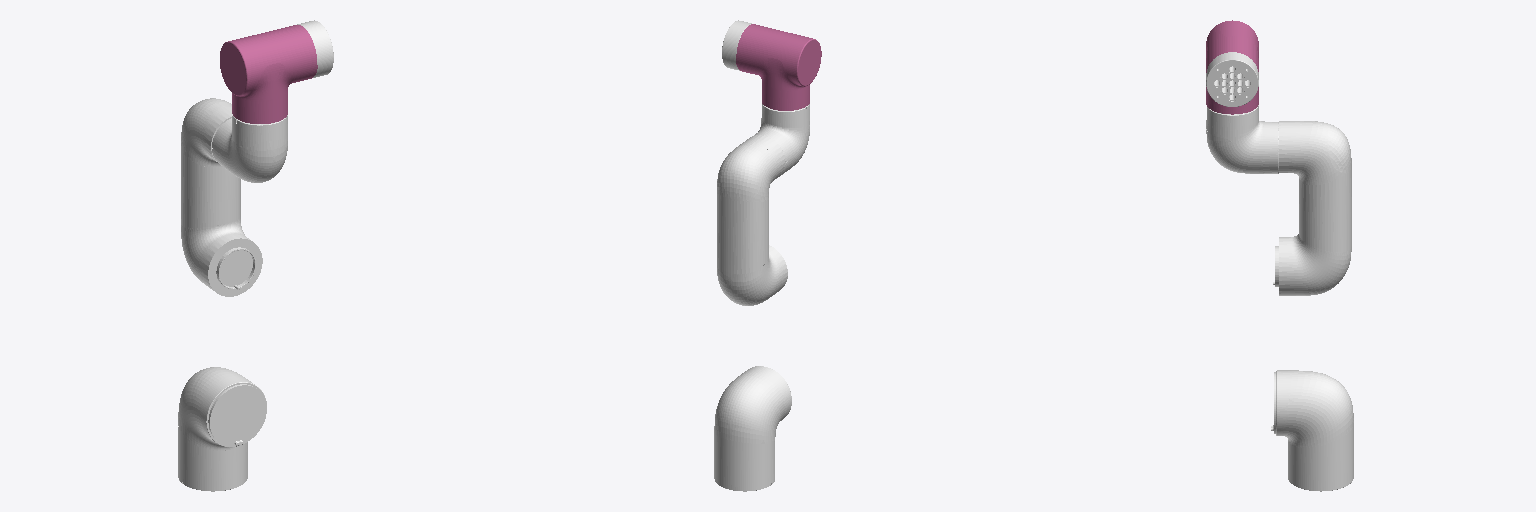
robot.urdf — mycobot_280_jn:
<?xml version="1.0"?>
<robot name="mycobot_280_jn">
  <link name="world"/>
  <joint name="world_to_joint1" type="fixed"><parent link="world"/><child link="joint1"/><origin xyz="0 0 0" rpy="0 0 0"/></joint>

  <link name="joint1">
    <visual>
      <geometry><mesh filename="package://mycobot_description/urdf/mycobot_280_jn_sim/meshes/visual/joint1.dae"/></geometry>
    </visual>
    <collision>
      <geometry><mesh filename="package://mycobot_description/urdf/mycobot_280_jn_sim/meshes/collision/joint1.stl"/></geometry>
    </collision>
    <inertial>
      <origin xyz="-0.000007 -0.000080 0.049738" rpy="0 0 0"/>
      <mass value="0.51726"/>
      <inertia ixx="1.2523e-03" ixy="7.0339e-09" ixz="-6.3450e-08" iyy="9.3955e-04" iyz="1.1529e-06" izz="1.2061e-03"/>
    </inertial>
  </link>
  <link name="joint2">
    <visual>
      <geometry><mesh filename="package://mycobot_description/urdf/mycobot_280_jn_sim/meshes/visual/joint2.dae"/></geometry>
    </visual>
    <collision>
      <geometry><mesh filename="package://mycobot_description/urdf/mycobot_280_jn_sim/meshes/collision/joint2.stl"/></geometry>
    </collision>
    <inertial>
      <origin xyz="-0.000000 -0.006642 -0.021543" rpy="0 0 0"/>
      <mass value="0.06483"/>
      <inertia ixx="4.7296e-05" ixy="-1.4455e-10" ixz="4.0893e-11" iyy="4.2690e-05" iyz="5.2950e-06" izz="2.4363e-05"/>
    </inertial>
  </link>
  <link name="joint3">
    <visual>
      <geometry><mesh filename="package://mycobot_description/urdf/mycobot_280_jn_sim/meshes/visual/joint3.dae"/></geometry>
    </visual>
    <collision>
      <geometry><mesh filename="package://mycobot_description/urdf/mycobot_280_jn_sim/meshes/collision/joint3.stl"/></geometry>
    </collision>
    <inertial>
      <origin xyz="-0.054329 -0.000001 0.055329" rpy="0 0 0"/>
      <mass value="0.11472"/>
      <inertia ixx="4.1667e-05" ixy="-4.5301e-09" ixz="-7.2144e-07" iyy="2.1506e-04" iyz="-8.8599e-10" izz="2.0847e-04"/>
    </inertial>
  </link>
  <link name="joint4">
    <visual>
      <geometry><mesh filename="package://mycobot_description/urdf/mycobot_280_jn_sim/meshes/visual/joint4.dae"/></geometry>
    </visual>
    <collision>
      <geometry><mesh filename="package://mycobot_description/urdf/mycobot_280_jn_sim/meshes/collision/joint4.stl"/></geometry>
    </collision>
    <inertial>
      <origin xyz="-0.045854 0.000000 0.007555" rpy="0 0 0"/>
      <mass value="0.09148"/>
      <inertia ixx="3.0829e-05" ixy="2.4590e-09" ixz="-3.0073e-06" iyy="1.3707e-04" iyz="1.3305e-09" izz="1.2859e-04"/>
    </inertial>
  </link>
  <link name="joint5">
    <visual>
      <geometry><mesh filename="package://mycobot_description/urdf/mycobot_280_jn_sim/meshes/visual/joint5.dae"/></geometry>
    </visual>
    <collision>
      <geometry><mesh filename="package://mycobot_description/urdf/mycobot_280_jn_sim/meshes/collision/joint5.stl"/></geometry>
    </collision>
    <inertial>
      <origin xyz="0.000001 -0.009519 -0.008481" rpy="0 0 0"/>
      <mass value="0.02935"/>
      <inertia ixx="1.1293e-05" ixy="2.2528e-10" ixz="1.0500e-10" iyy="8.1426e-06" iyz="1.6096e-06" izz="8.8742e-06"/>
    </inertial>
  </link>
  <link name="joint6">
    <visual>
      <geometry><mesh filename="package://mycobot_description/urdf/mycobot_280_jn_sim/meshes/visual/joint6.dae"/></geometry>
    </visual>
    <collision>
      <geometry><mesh filename="package://mycobot_description/urdf/mycobot_280_jn_sim/meshes/collision/joint6.stl"/></geometry>
    </collision>
    <inertial>
      <origin xyz="-0.000000 0.005619 -0.009142" rpy="0 0 0"/>
      <mass value="0.03671"/>
      <inertia ixx="1.6852e-05" ixy="1.3225e-11" ixz="9.2639e-11" iyy="1.2050e-05" iyz="-8.3674e-07" izz="1.2581e-05"/>
    </inertial>
  </link>
  <link name="joint6_flange">
    <visual>
      <geometry><mesh filename="package://mycobot_description/urdf/mycobot_280_jn_sim/meshes/visual/joint6_flange.dae"/></geometry>
    </visual>
    <collision>
      <geometry><mesh filename="package://mycobot_description/urdf/mycobot_280_jn_sim/meshes/collision/joint6_flange.stl"/></geometry>
    </collision>
    <inertial>
      <origin xyz="-0.000000 -0.000000 -0.005150" rpy="0 0 0"/>
      <mass value="0.00565"/>
      <inertia ixx="6.0852e-07" ixy="-5.1861e-24" ixz="1.4684e-24" iyy="6.0852e-07" iyz="-7.5632e-16" izz="1.0405e-06"/>
    </inertial>
  </link>
  <joint name="joint2_to_joint1" type="revolute">
    <parent link="joint1"/><child link="joint2"/>
    <origin xyz="0 0 0.15756" rpy="0 0 0"/>
    <axis xyz="0 0 1"/>
    <limit effort="10.0" lower="-2.9321" upper="2.9321" velocity="1.0"/>
    <dynamics damping="0.1" friction="0.01"/>
  </joint>
  <joint name="joint3_to_joint2" type="revolute">
    <parent link="joint2"/><child link="joint3"/>
    <origin xyz="0 0 -0.001" rpy="0 1.5708 -1.5708"/>
    <axis xyz="0 0 1"/>
    <limit effort="10.0" lower="-2.4434" upper="2.4434" velocity="1.0"/>
    <dynamics damping="0.1" friction="0.01"/>
  </joint>
  <joint name="joint4_to_joint3" type="revolute">
    <parent link="joint3"/><child link="joint4"/>
    <origin xyz="-0.1104 0 0" rpy="0 0 0"/>
    <axis xyz="0 0 1"/>
    <limit effort="10.0" lower="-2.6179" upper="2.6179" velocity="1.0"/>
    <dynamics damping="0.1" friction="0.01"/>
  </joint>
  <joint name="joint5_to_joint4" type="revolute">
    <parent link="joint4"/><child link="joint5"/>
    <origin xyz="-0.096 0 0.06462" rpy="0 0 -1.5708"/>
    <axis xyz="0 0 1"/>
    <limit effort="10.0" lower="-2.6179" upper="2.6179" velocity="1.0"/>
    <dynamics damping="0.1" friction="0.01"/>
  </joint>
  <joint name="joint6_to_joint5" type="revolute">
    <parent link="joint5"/><child link="joint6"/>
    <origin xyz="0 -0.07318 0" rpy="1.5708 -1.5708 0"/>
    <axis xyz="0 0 1"/>
    <limit effort="10.0" lower="-2.7052" upper="2.7925" velocity="1.0"/>
    <dynamics damping="0.1" friction="0.01"/>
  </joint>
  <joint name="joint6output_to_joint6" type="revolute">
    <parent link="joint6"/><child link="joint6_flange"/>
    <origin xyz="0 0.0456 0" rpy="-1.5708 0 0"/>
    <axis xyz="0 0 1"/>
    <limit effort="10.0" lower="-3.14159" upper="3.14159" velocity="1.0"/>
    <dynamics damping="0.1" friction="0.01"/>
  </joint>

  <!-- Gazebo: gravity off on the moving links (passive joints would otherwise fall; no controller yet) -->
  <gazebo reference="joint2"><turnGravityOff>true</turnGravityOff></gazebo>
  <gazebo reference="joint3"><turnGravityOff>true</turnGravityOff></gazebo>
  <gazebo reference="joint4"><turnGravityOff>true</turnGravityOff></gazebo>
  <gazebo reference="joint5"><turnGravityOff>true</turnGravityOff></gazebo>
  <gazebo reference="joint6"><turnGravityOff>true</turnGravityOff></gazebo>
  <gazebo reference="joint6_flange"><turnGravityOff>true</turnGravityOff></gazebo>
</robot>

--- What the picture shows (computed from the rendered views, not written in the file) ---
The picture shows the robot from 3 angles, left to right: view 1: azimuth 30°, elevation 25°; view 2: azimuth 150°, elevation 25°; view 3: azimuth 270°, elevation 25°; orthographic projection.
Robot: mycobot_280_jn — 8 links, 7 joints (6 revolute, 1 fixed); root link world; default pose: all joints at 0.
Visible links, largest first — view 1: joint4, joint2, joint6, joint5, joint6_flange; view 2: joint4, joint2, joint6, joint5, joint6_flange; view 3: joint4, joint2, joint5, joint6_flange, joint6.
Link boxes in pixels (bbox=[...]): joint4: bbox=[181, 98, 262, 296]; joint2: bbox=[178, 367, 266, 491]; joint6: bbox=[220, 25, 317, 123]; joint5: bbox=[212, 115, 287, 182]; joint6_flange: bbox=[297, 20, 333, 77]; joint4: bbox=[717, 135, 787, 305]; joint2: bbox=[714, 366, 791, 491]; joint6: bbox=[736, 24, 821, 110]; joint5: bbox=[755, 104, 809, 176]; joint6_flange: bbox=[722, 20, 751, 70]; joint4: bbox=[1273, 121, 1351, 295]; joint2: bbox=[1271, 370, 1353, 491]; joint5: bbox=[1206, 105, 1278, 173]; joint6_flange: bbox=[1206, 52, 1258, 106]; joint6: bbox=[1206, 20, 1258, 114].
Bounding box of the posed robot: 0.0713 × 0.1078 × 0.3619 m (x, y, z).
Meshes: 7 distinct files referenced, 5 mesh visuals loaded (5 Collada DAE); not drawn: 2 (reference not matched to a file when rendering).
